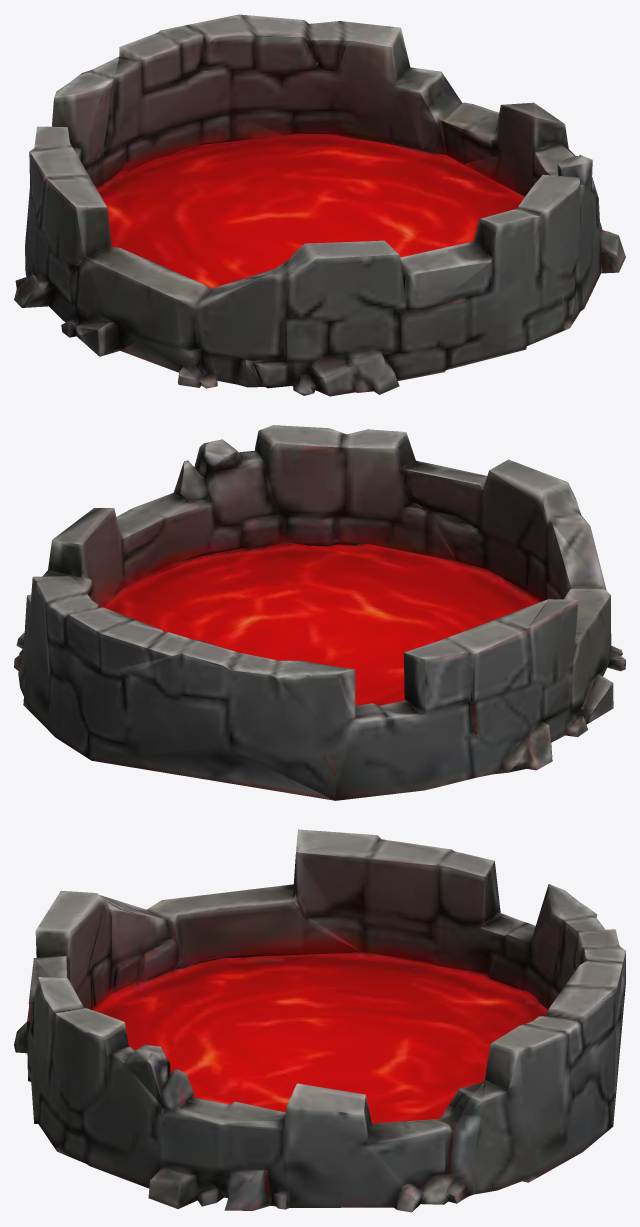
Rendered from obj_well_red.glb.
3 views of the same model, one above another, from view 1: azimuth 30°, elevation 25°; view 2: azimuth 150°, elevation 25°; view 3: azimuth 270°, elevation 25° (orthographic). The views are drawn at different scales.
Visible parts, largest first — view 1: Magic well red; view 2: Magic well red; view 3: Magic well red.
Part boxes in pixels (x1,y1,x2,y2): Magic well red: (14,14,625,396); Magic well red: (14,425,625,800); Magic well red: (14,829,625,1212).
Bounding box in the file's own units: 1.9 × 0.4781 × 1.88.
1 material, 1 textured.
